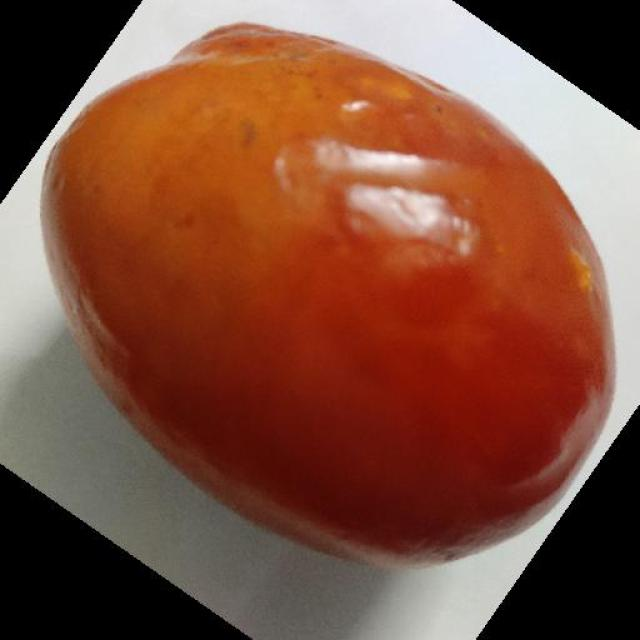Stale_tomato: (34, 27, 624, 551)
